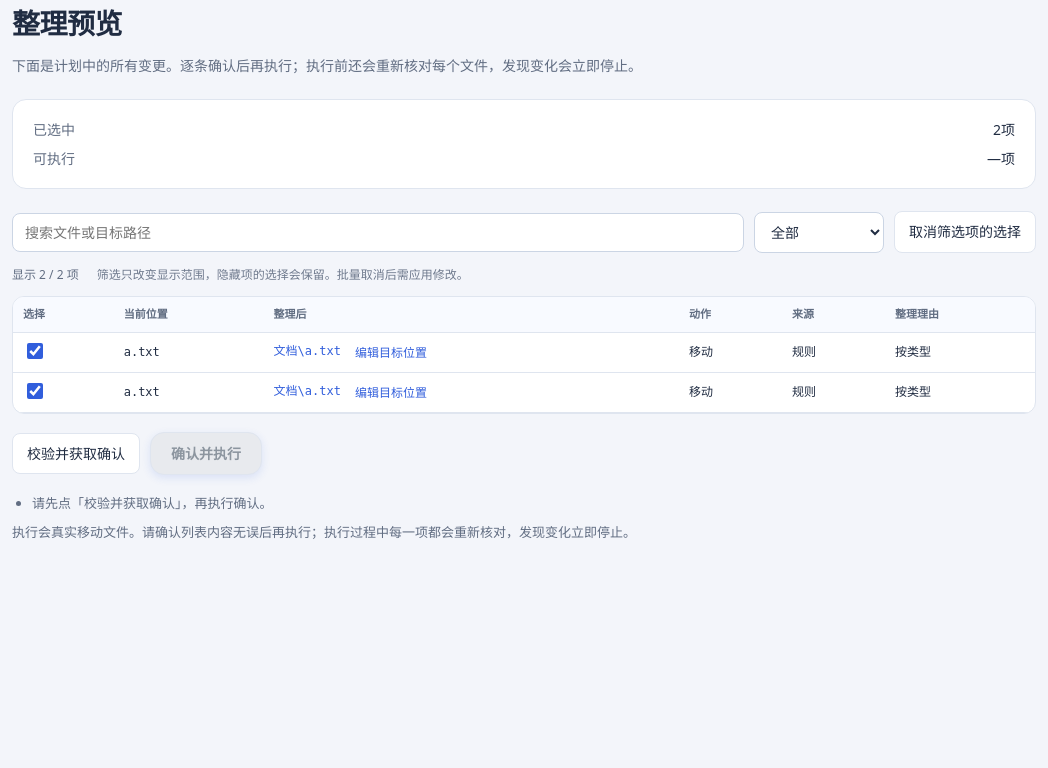
Test: 预览页 UI 接线 › 校验后被编辑，理由才变成「计划已被修改」
Click the button "校验并获取确认" at (76, 453), box [12, 432, 140, 474]
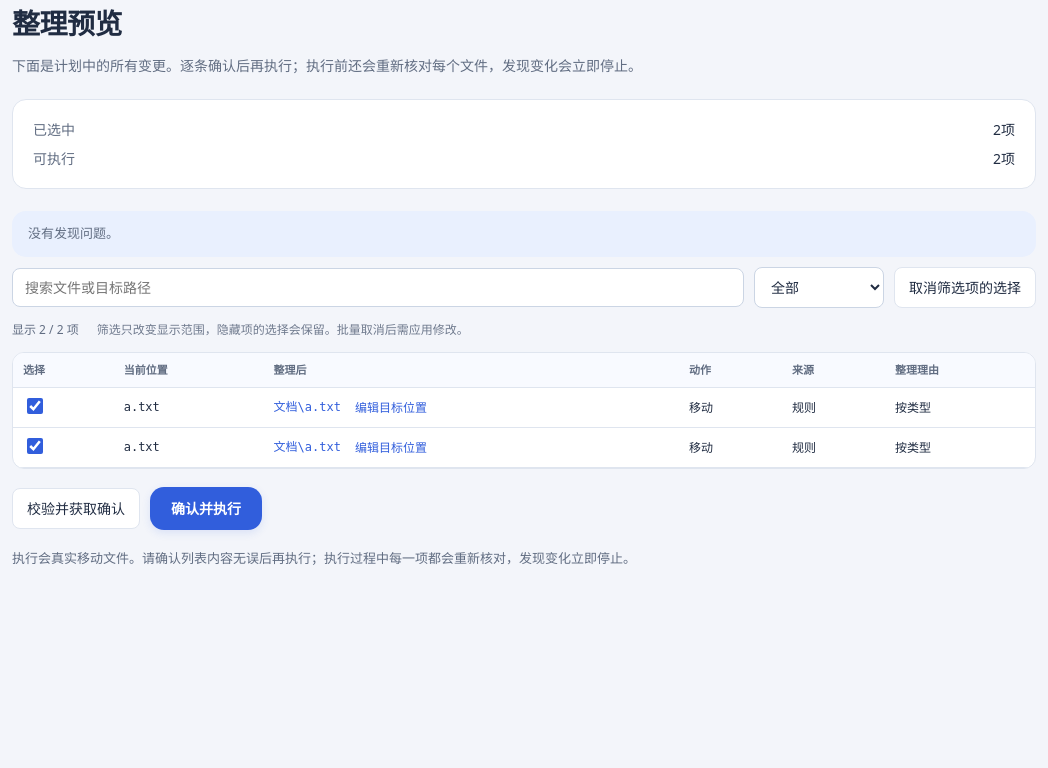
expect the button "确认并执行" is enabled: met, box [150, 487, 262, 530]
Click the 1st button "编辑目标位置" at (391, 407), box [351, 396, 431, 418]
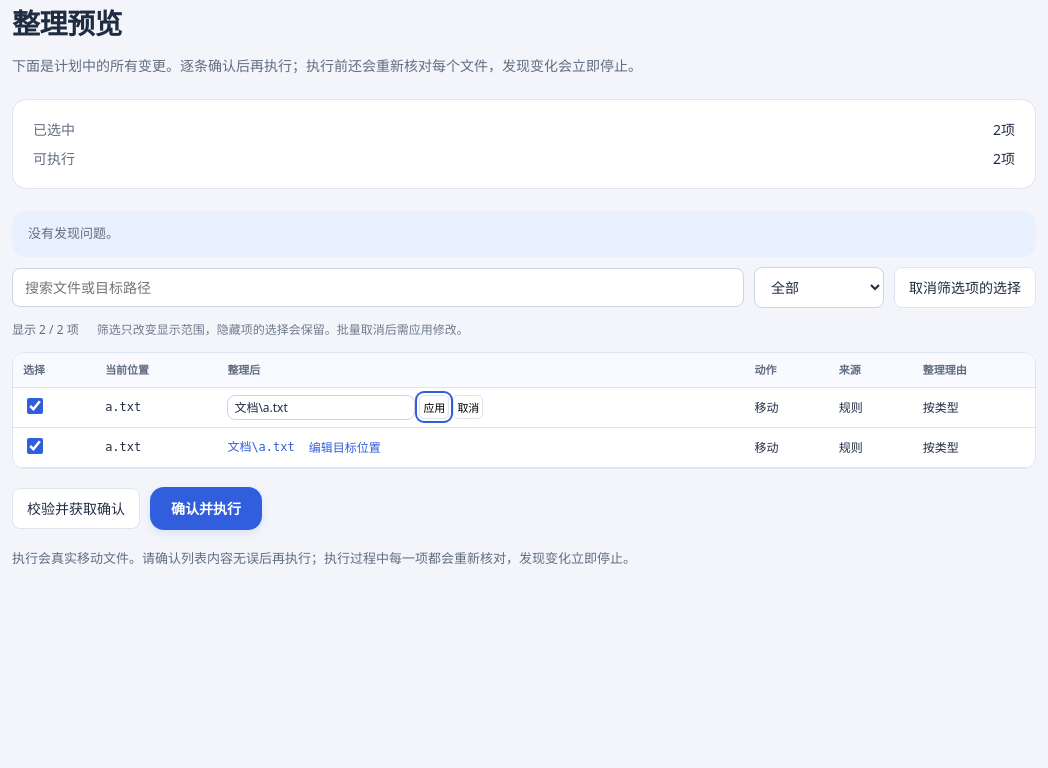
Replace the text in the field named "编辑目标位置" with "归档\\改过名.txt" at (321, 407), box [227, 395, 415, 420]
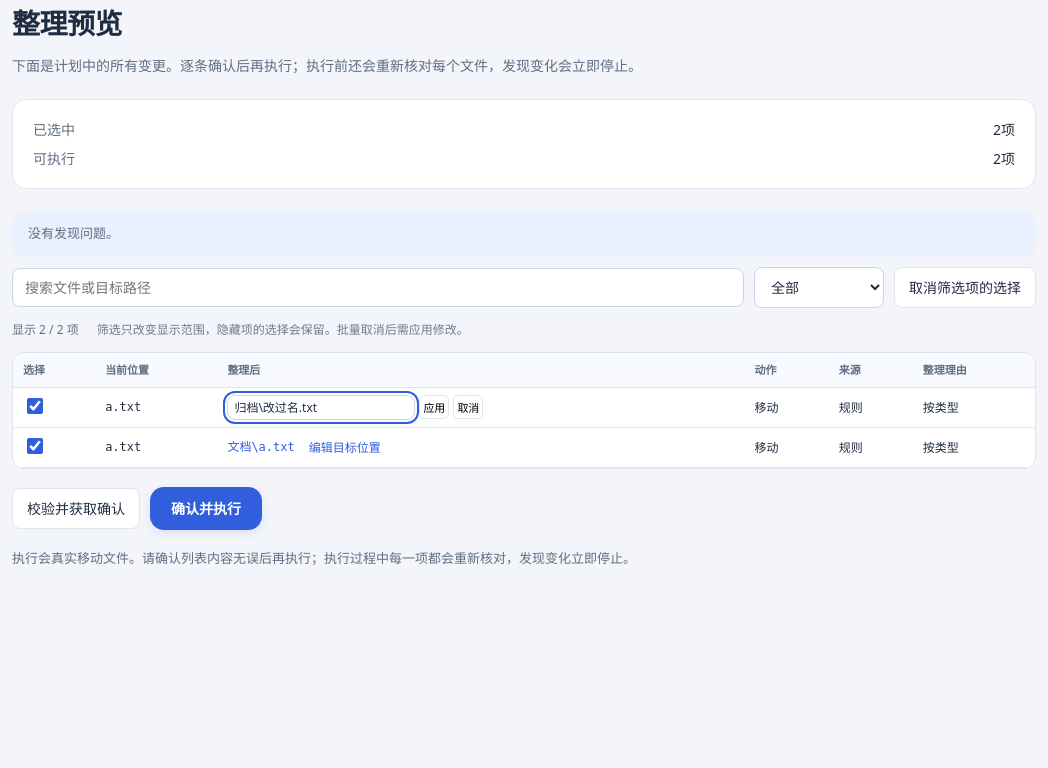
Click the button "应用" at (434, 407), box [419, 395, 449, 419]
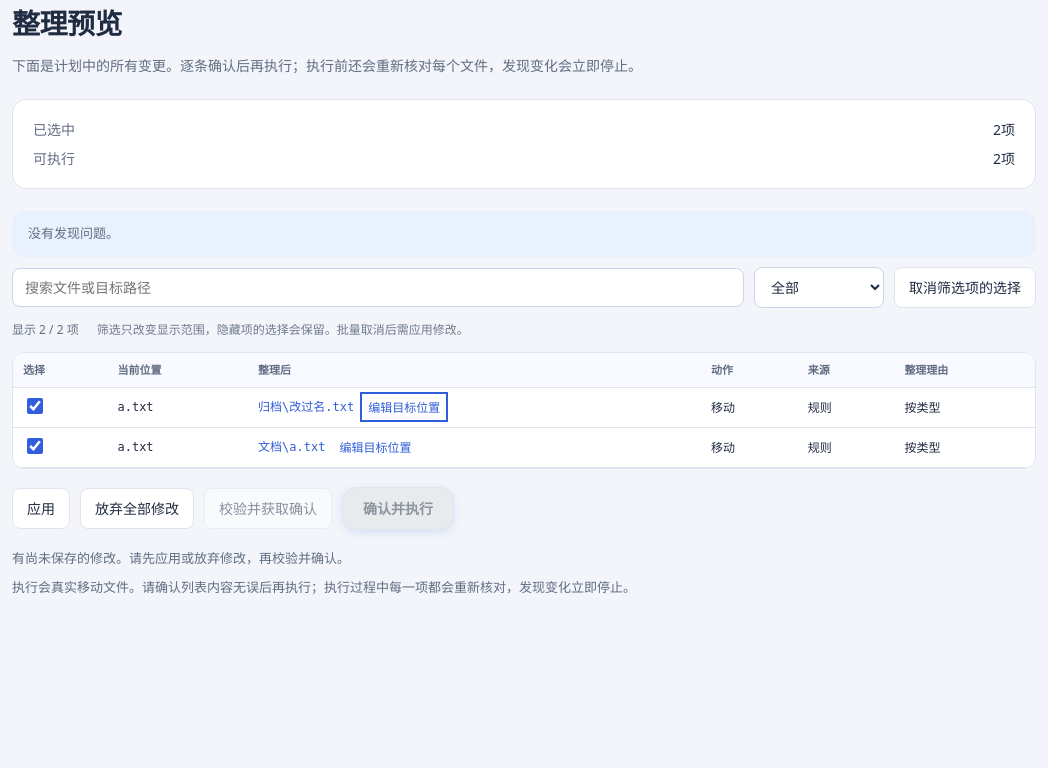
expect the list item "请先点「校验并获取确认」，再执行确认。" is not shown: met
expect the button "确认并执行" is disabled: met, box [342, 487, 454, 530]
expect the text "有尚未保存的修改。请先应用或放弃修改，再校验并确认。" is shown: met, box [12, 549, 350, 567]
